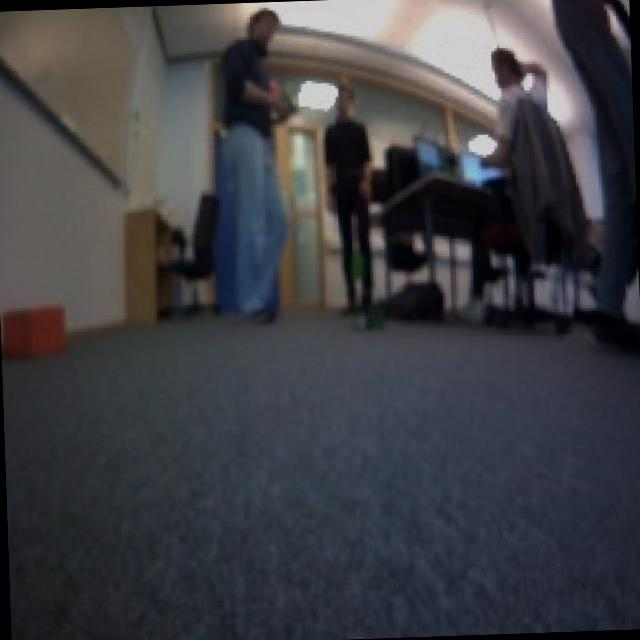robot: (345, 296, 391, 334)
target: (0, 300, 66, 357)
